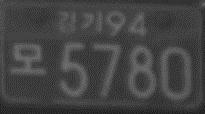0: (158, 44, 192, 101)
4: (128, 11, 148, 39)
5: (59, 41, 90, 97)
7: (92, 42, 121, 98)
8: (127, 45, 157, 100)
9: (105, 9, 125, 37)
경기_O: (57, 9, 104, 35)
모: (9, 42, 47, 77)
